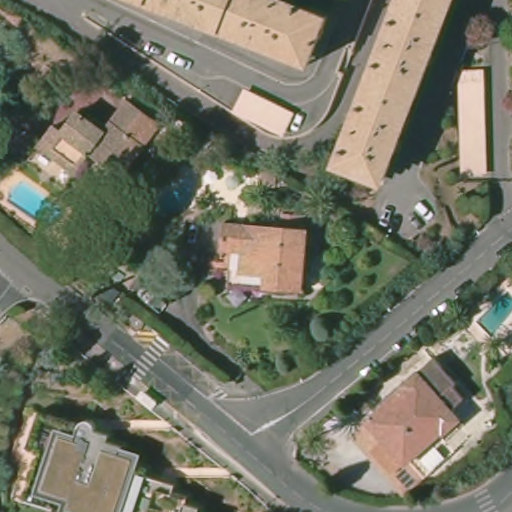pool: (10, 179, 66, 230), (154, 172, 204, 215), (476, 292, 512, 332)
